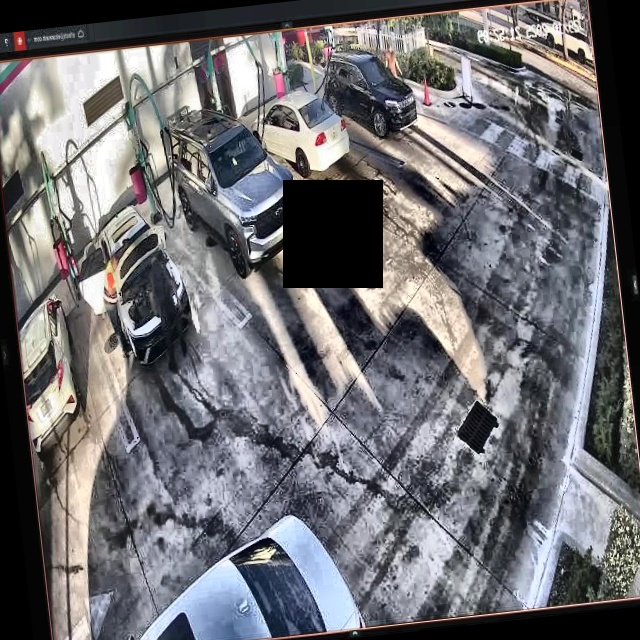Car: (163, 99, 301, 279), (76, 199, 193, 368), (249, 85, 349, 178)
